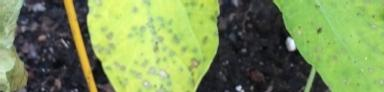Tomato Septoria leaf spot: (84, 0, 229, 92), (263, 0, 384, 92)
